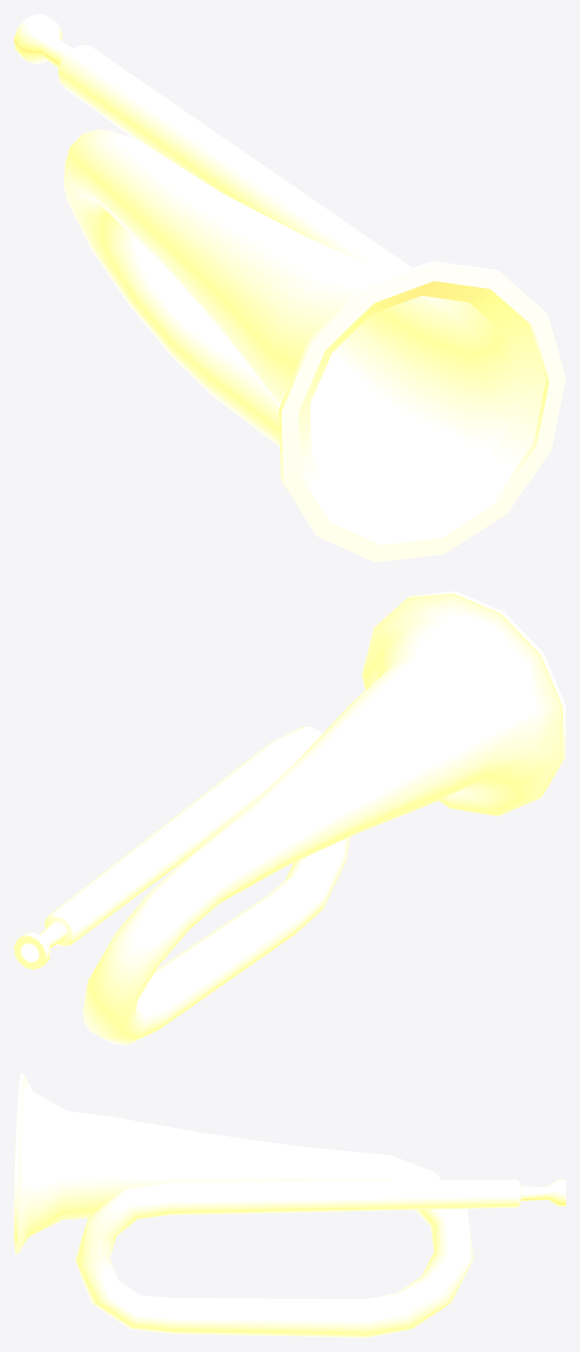
Rendered from trumpet.gltf.
3 views of the same model, one above another, from view 1: azimuth 30°, elevation 25°; view 2: azimuth 150°, elevation 25°; view 3: azimuth 270°, elevation 25° (orthographic). The views are drawn at different scales.
Parts seen in each view (by area): view 1: Trumpet; view 2: Trumpet; view 3: Trumpet.
Part boxes in pixels (x1,y1,x2,y2): Trumpet: (14, 14, 565, 562); Trumpet: (14, 591, 565, 1044); Trumpet: (14, 1073, 565, 1337).
Bounding box in the file's own units: 0.4067 × 0.526 × 1.19.
